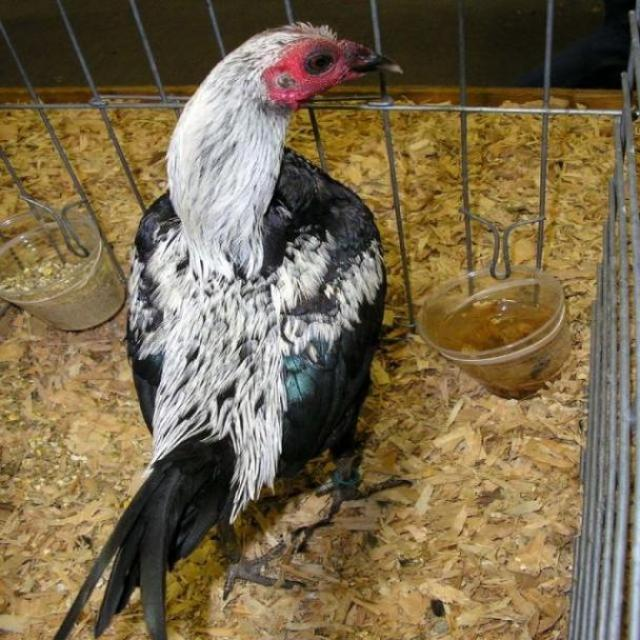Chicken: (25, 13, 422, 640)
